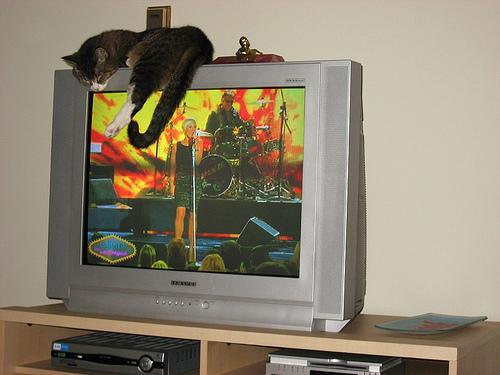tv: (43, 58, 380, 339)
